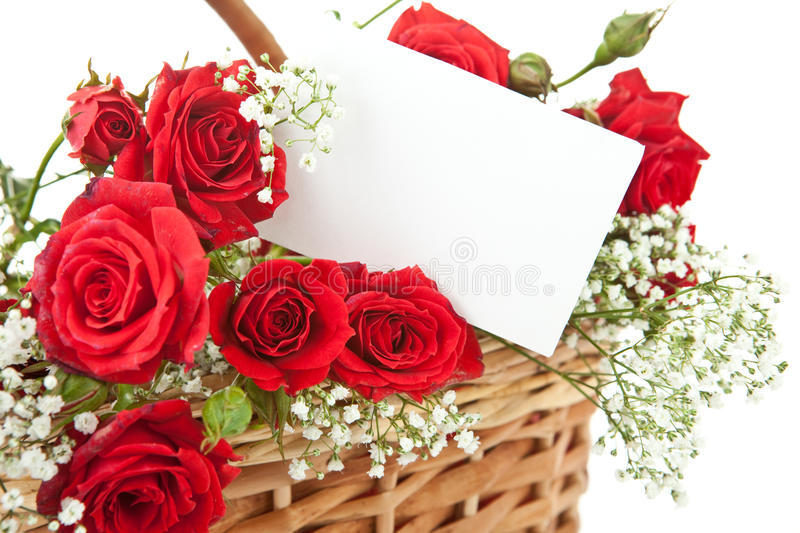RedRose: (136, 63, 281, 228), (62, 186, 189, 369), (335, 256, 467, 393), (83, 410, 229, 533), (240, 264, 346, 393), (575, 80, 686, 195), (395, 3, 525, 88), (69, 82, 154, 191), (602, 207, 690, 285)
